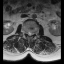CCS_normal: (29, 30, 30, 38)
LFS_normal: (32, 31, 34, 36)
LLS_normal: (30, 30, 32, 37)
RFS_stenosis: (25, 30, 27, 36)
RLS_normal: (27, 30, 29, 36)
